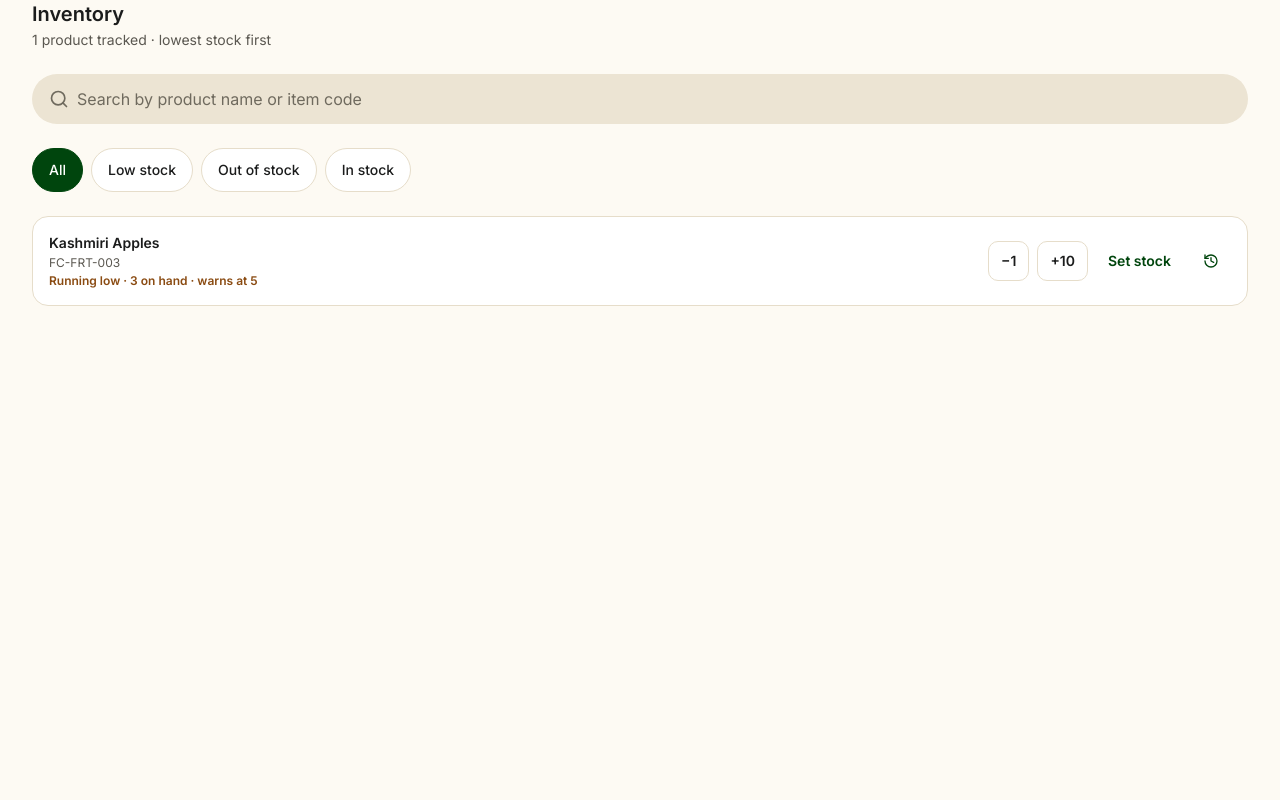
Scenario: InventoryScreen › confirms an absolute stock set before writing (§43)
Check: the text "Kashmiri Apples" is shown, box left=49, top=234, right=160, bottom=251
Click the button "Set stock". click: (1140, 261)
box: left=1096, top=241, right=1183, bottom=281
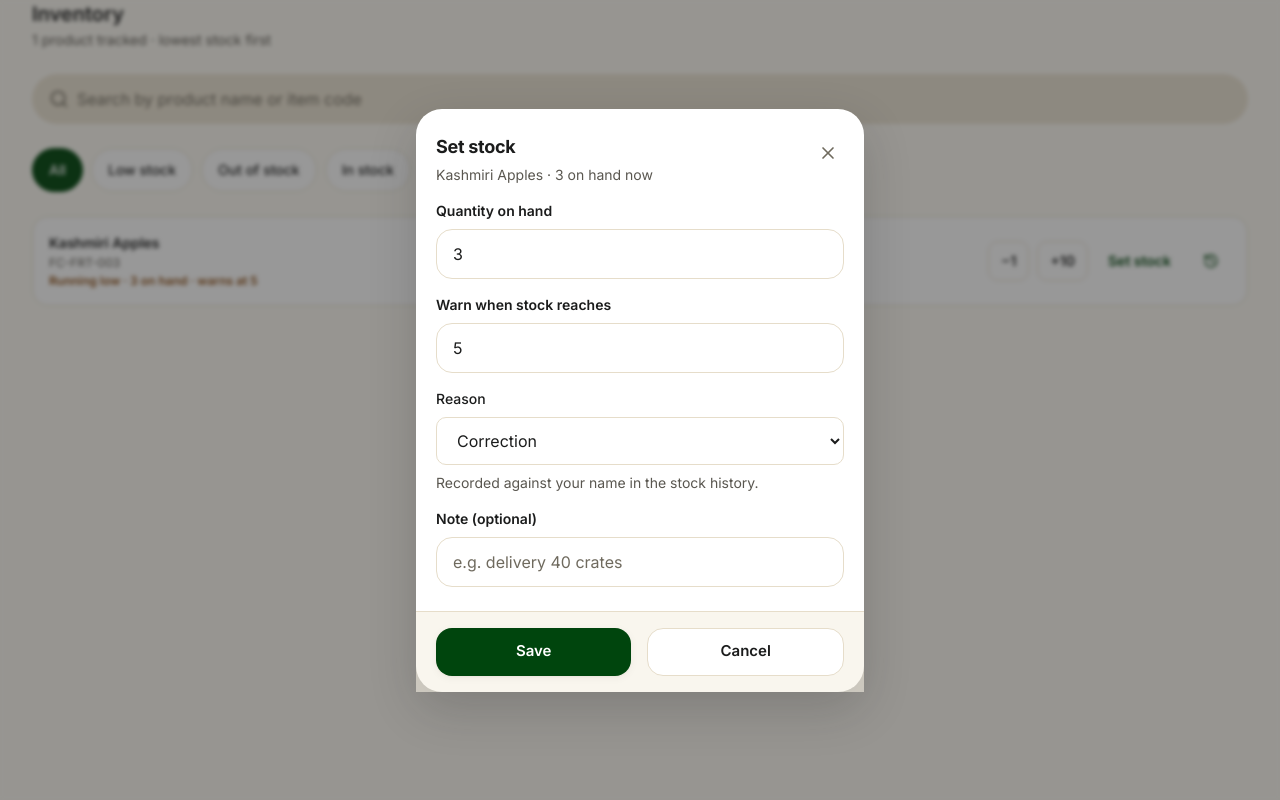
Check: the dropdown labelled "Reason" is shown, box left=436, top=416, right=844, bottom=464
